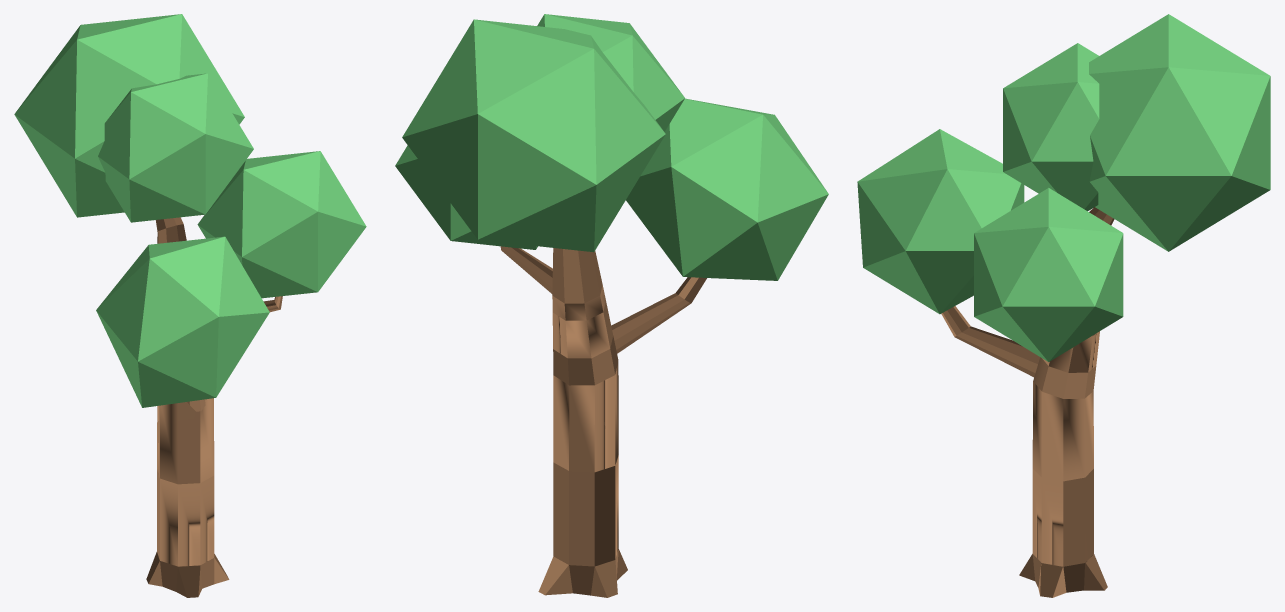
File: tree3.fbx
3 renders of one model, left to right at view 1: azimuth 30°, elevation 25°; view 2: azimuth 150°, elevation 25°; view 3: azimuth 270°, elevation 25°, orthographic. The views are drawn at different scales.
Visible parts, largest first — view 1: Platonic_3, Platonic_1, Platonic_2, Platonic, Cylinder; view 2: Platonic_1, Platonic_3, Cylinder, Platonic_2, Platonic; view 3: Platonic_1, Platonic, Platonic_3, Cylinder, Platonic_2.
Part boxes in pixels (x1=…): Platonic_3: x1=96, y1=236, x2=269, y2=407; Platonic_1: x1=14, y1=14, x2=244, y2=217; Platonic_2: x1=98, y1=73, x2=253, y2=222; Platonic: x1=197, y1=151, x2=366, y2=298; Cylinder: x1=146, y1=217, x2=282, y2=597; Platonic_1: x1=402, y1=19, x2=665, y2=252; Platonic_3: x1=626, y1=98, x2=828, y2=280; Cylinder: x1=500, y1=246, x2=706, y2=597; Platonic_2: x1=537, y1=14, x2=684, y2=131; Platonic: x1=395, y1=145, x2=537, y2=249; Platonic_1: x1=1089, y1=14, x2=1270, y2=251; Platonic: x1=974, y1=188, x2=1123, y2=361; Platonic_3: x1=857, y1=129, x2=1024, y2=314; Cylinder: x1=941, y1=207, x2=1114, y2=597; Platonic_2: x1=1003, y1=43, x2=1099, y2=211.
Size of the model in its own units: 550 by 967 by 672.
